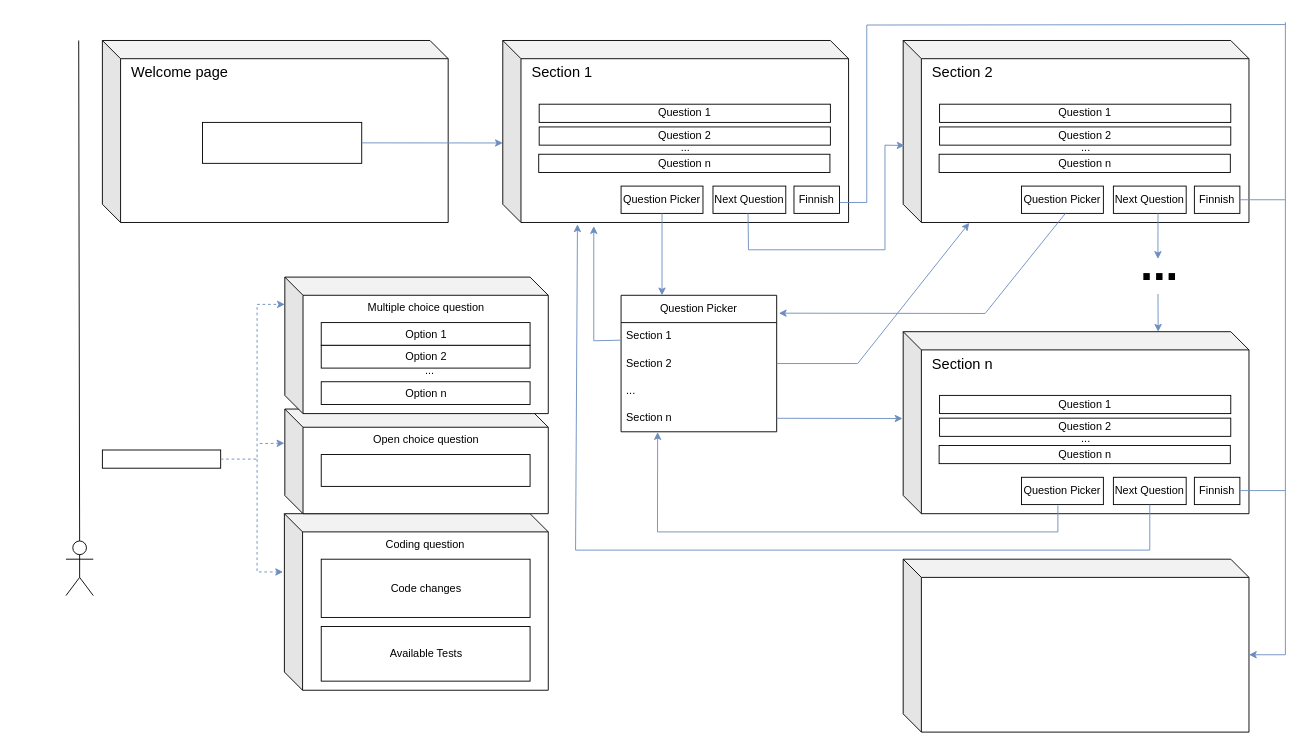
This 1309x748 diagram has some shape labels left out. The shapes that lost their labels are listed below. From the top down, each one's centre as x and y in pixels, then its label:
(282,142): Start Examination
(161,458): Question
(425,470): Answer
(79,568): me at the end of this week
(1075,645): Finish Page
